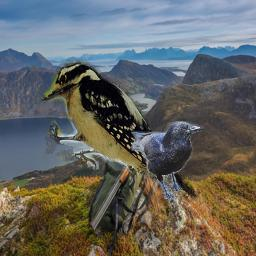Crow: (131, 121, 203, 199)
Woodpecker: (41, 56, 198, 201)
